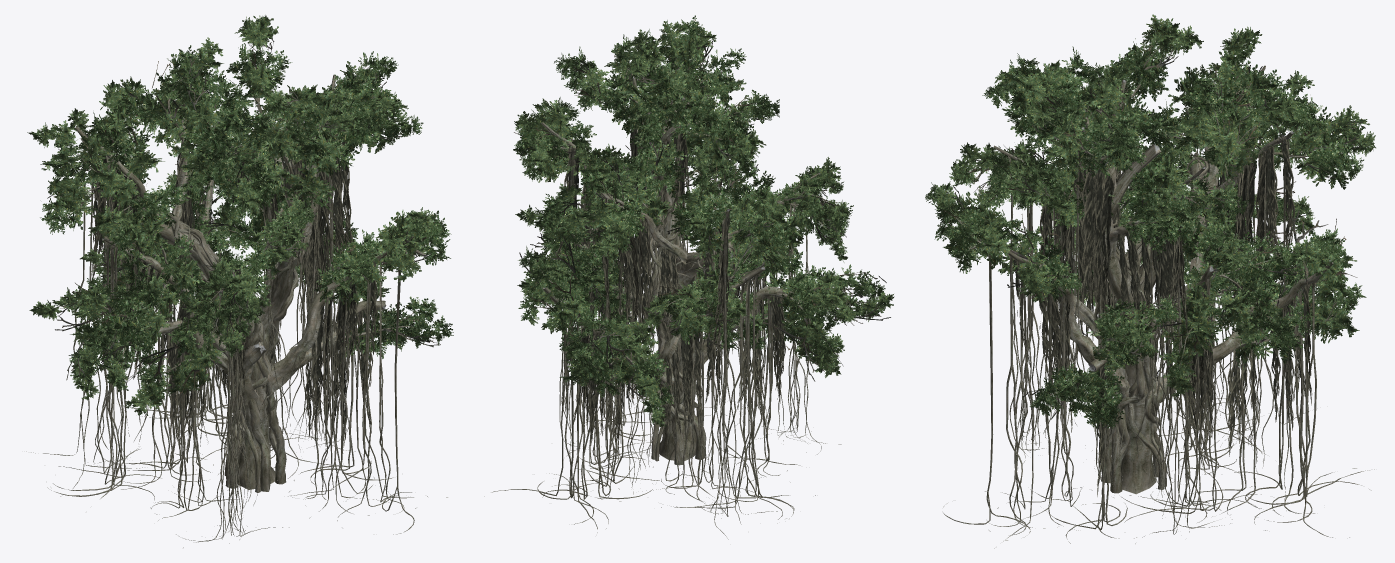
File: home_fig.glb
3 renders of one model, left to right at view 1: azimuth 30°, elevation 25°; view 2: azimuth 150°, elevation 25°; view 3: azimuth 270°, elevation 25°, orthographic. The views are drawn at different scales.
Parts seen in each view (by area): view 1: ChineseBanyan_Med_BanyanTreeLeaves_2_0, ChineseBanyan_Med_BanyanTreeLeaves_1_0, ChineseBanyan_Med_BanyanTreeBark_0, ChineseBanyan_Med_Vines_01_0, ChineseBanyan_Med_Branches_03_0; view 2: ChineseBanyan_Med_BanyanTreeLeaves_1_0, ChineseBanyan_Med_BanyanTreeLeaves_2_0, ChineseBanyan_Med_BanyanTreeBark_0, ChineseBanyan_Med_Vines_01_0, ChineseBanyan_Med_Branches_03_0; view 3: ChineseBanyan_Med_BanyanTreeLeaves_2_0, ChineseBanyan_Med_BanyanTreeLeaves_1_0, ChineseBanyan_Med_BanyanTreeBark_0, ChineseBanyan_Med_Vines_01_0, ChineseBanyan_Med_Branches_03_0.
Boxes of the visible parts, x1=… form: ChineseBanyan_Med_BanyanTreeLeaves_2_0: x1=27, y1=15, x2=437, y2=415; ChineseBanyan_Med_BanyanTreeLeaves_1_0: x1=40, y1=43, x2=453, y2=398; ChineseBanyan_Med_BanyanTreeBark_0: x1=26, y1=47, x2=447, y2=547; ChineseBanyan_Med_Vines_01_0: x1=91, y1=121, x2=377, y2=462; ChineseBanyan_Med_Branches_03_0: x1=47, y1=38, x2=440, y2=400; ChineseBanyan_Med_BanyanTreeLeaves_1_0: x1=513, y1=15, x2=890, y2=416; ChineseBanyan_Med_BanyanTreeLeaves_2_0: x1=514, y1=20, x2=894, y2=426; ChineseBanyan_Med_BanyanTreeBark_0: x1=484, y1=50, x2=876, y2=539; ChineseBanyan_Med_Vines_01_0: x1=555, y1=99, x2=785, y2=448; ChineseBanyan_Med_Branches_03_0: x1=514, y1=32, x2=890, y2=402; ChineseBanyan_Med_BanyanTreeLeaves_2_0: x1=929, y1=14, x2=1375, y2=403; ChineseBanyan_Med_BanyanTreeLeaves_1_0: x1=925, y1=34, x2=1366, y2=428; ChineseBanyan_Med_BanyanTreeBark_0: x1=943, y1=47, x2=1374, y2=548; ChineseBanyan_Med_Vines_01_0: x1=1013, y1=94, x2=1312, y2=496; ChineseBanyan_Med_Branches_03_0: x1=938, y1=39, x2=1362, y2=420.
Bounding box in the file's own units: 14.95 × 17 × 14.76.
7 materials, 7 textured.
